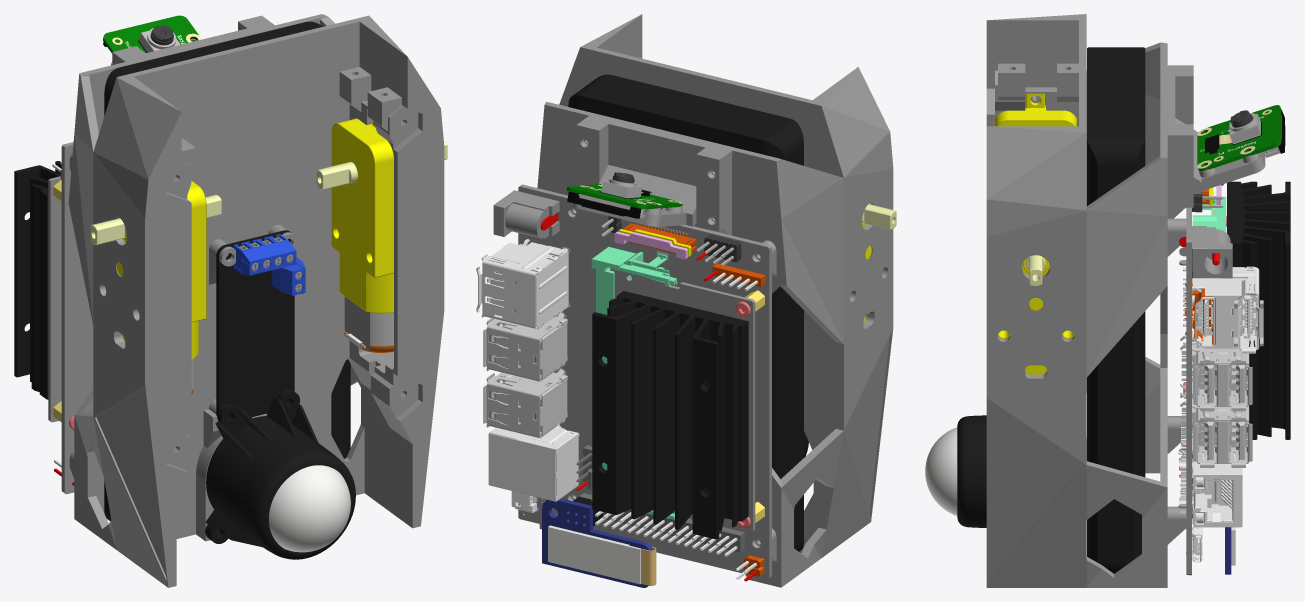
The model's file is JetBot-v3-Chassis.dae.
3 views of the same model, side by side, from view 1: azimuth 30°, elevation 25°; view 2: azimuth 150°, elevation 25°; view 3: azimuth 270°, elevation 25° (orthographic). The views are drawn at different scales.
Visible parts, largest first — view 1: JetBot-v3_v22_1676, Caster_1-inch_v5_1_21, Feather_DC_Motor_board_v3_1_1321, DC_Motor_Yellow_Gear_box_v1(Mirror)_1_11, PORG_HEAT_SINK_1_1253, 142-13449-1000-A02_-_board_1_27, Caster_1-inch_v5_1_23, Power_Bank_-_INIU_v4_1_1663, 142-13448-1000-A02-SKU0000_1_1245, DC_Motor_Yellow_Gear_box_v1_1_2, PicameraPCB_1_1326, JB3_Camera_Mount_v7_1_1632 (+7 smaller); view 2: JetBot-v3_v22_1676, PORG_HEAT_SINK_1_1253, 142-13449-1000-A02_-_board_1_27, Power_Bank_-_INIU_v4_1_1663, JB3_Camera_Mount_v7_1_1632, 064-0374-000_2_-_DisplayPort_1_828, 064-0373-000_2_-_Ethernet_1_976, 142-13448-1000-A02-SKU0000_1_1245, 065-0656-000_2_-_USB_3_1_1160, 065-0656-000_2_-_USB_3_1_1234, PiOLED_v3_1_1670, 080-1656-000_3_-_SODIMM_connector_1_91 (+13 smaller); view 3: JetBot-v3_v22_1676, Power_Bank_-_INIU_v4_1_1663, PORG_HEAT_SINK_1_1253, 064-0374-000_2_-_DisplayPort_1_828, JB3_Camera_Mount_v7_1_1632, 064-0373-000_2_-_Ethernet_1_976, 065-0656-000_2_-_USB_3_1_1234, Caster_1-inch_v5_1_21, 065-0656-000_2_-_USB_3_1_1160, PicameraPCB_1_1326, 142-13449-1000-A02_-_board_1_27, Caster_1-inch_v5_1_23 (+9 smaller).
Part boxes in pixels (x1=…): JetBot-v3_v22_1676: x1=68, y1=14, x2=444, y2=587; Caster_1-inch_v5_1_21: x1=205, y1=389, x2=355, y2=559; Feather_DC_Motor_board_v3_1_1321: x1=216, y1=230, x2=294, y2=418; DC_Motor_Yellow_Gear_box_v1(Mirror)_1_11: x1=331, y1=118, x2=393, y2=313; PORG_HEAT_SINK_1_1253: x1=14, y1=161, x2=61, y2=399; 142-13449-1000-A02_-_board_1_27: x1=61, y1=142, x2=93, y2=494; Caster_1-inch_v5_1_23: x1=269, y1=465, x2=350, y2=552; Power_Bank_-_INIU_v4_1_1663: x1=104, y1=21, x2=350, y2=521; 142-13448-1000-A02-SKU0000_1_1245: x1=48, y1=176, x2=61, y2=422; DC_Motor_Yellow_Gear_box_v1_1_2: x1=116, y1=181, x2=205, y2=359; PicameraPCB_1_1326: x1=103, y1=15, x2=198, y2=53; JB3_Camera_Mount_v7_1_1632: x1=111, y1=15, x2=274, y2=65; JetBot-v3_v22_1676: x1=537, y1=14, x2=893, y2=587; PORG_HEAT_SINK_1_1253: x1=592, y1=291, x2=748, y2=539; 142-13449-1000-A02_-_board_1_27: x1=518, y1=184, x2=771, y2=579; Power_Bank_-_INIU_v4_1_1663: x1=568, y1=74, x2=803, y2=551; JB3_Camera_Mount_v7_1_1632: x1=573, y1=115, x2=732, y2=231; 064-0374-000_2_-_DisplayPort_1_828: x1=476, y1=239, x2=570, y2=329; 064-0373-000_2_-_Ethernet_1_976: x1=488, y1=425, x2=579, y2=501; 142-13448-1000-A02-SKU0000_1_1245: x1=610, y1=268, x2=755, y2=532; 065-0656-000_2_-_USB_3_1_1160: x1=483, y1=369, x2=567, y2=438; 065-0656-000_2_-_USB_3_1_1234: x1=483, y1=312, x2=567, y2=381; PiOLED_v3_1_1670: x1=548, y1=525, x2=640, y2=584; 080-1656-000_3_-_SODIMM_connector_1_91: x1=591, y1=246, x2=677, y2=519; JetBot-v3_v22_1676: x1=986, y1=14, x2=1186, y2=587; Power_Bank_-_INIU_v4_1_1663: x1=1087, y1=47, x2=1145, y2=573; PORG_HEAT_SINK_1_1253: x1=1227, y1=181, x2=1290, y2=439; 064-0374-000_2_-_DisplayPort_1_828: x1=1183, y1=266, x2=1263, y2=353; JB3_Camera_Mount_v7_1_1632: x1=1167, y1=65, x2=1265, y2=207; 064-0373-000_2_-_Ethernet_1_976: x1=1178, y1=450, x2=1242, y2=527; 065-0656-000_2_-_USB_3_1_1234: x1=1180, y1=335, x2=1252, y2=411; Caster_1-inch_v5_1_21: x1=957, y1=415, x2=986, y2=527; 065-0656-000_2_-_USB_3_1_1160: x1=1180, y1=392, x2=1252, y2=467; PicameraPCB_1_1326: x1=1197, y1=105, x2=1281, y2=170; 142-13449-1000-A02_-_board_1_27: x1=1186, y1=207, x2=1191, y2=575; Caster_1-inch_v5_1_23: x1=925, y1=427, x2=957, y2=515.
Bounding box in the file's own units: 106 × 98.95 × 137.
